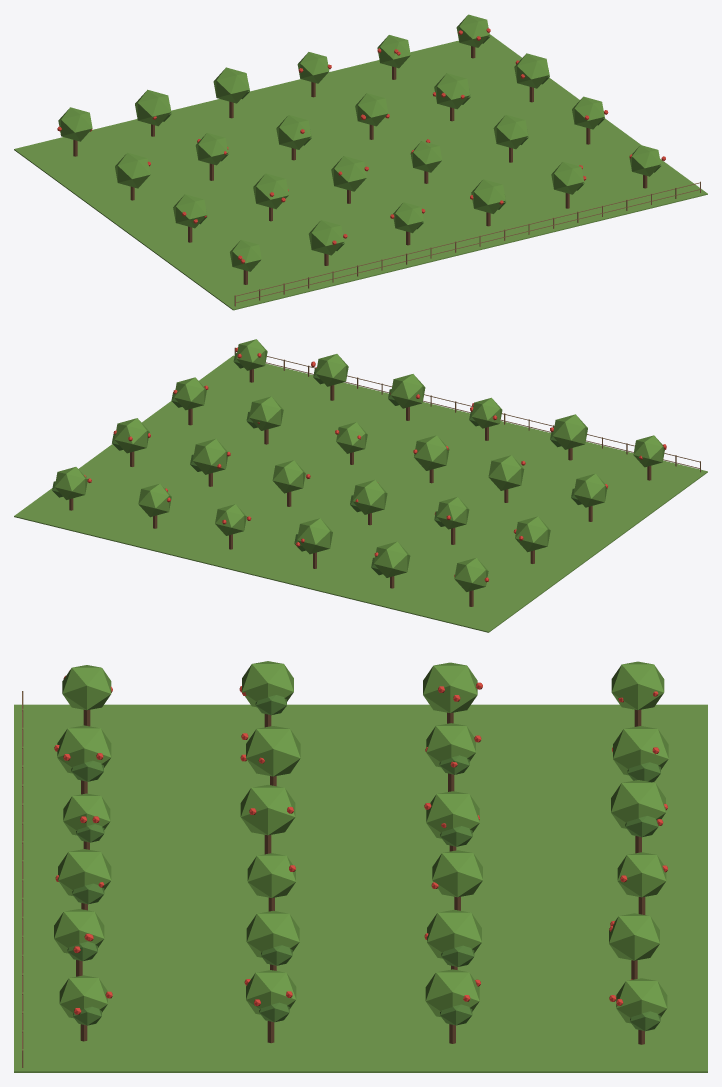
File: Kir_alan_meyve_1_Hafif.fbx
3 views of the same model, one above another, from view 1: azimuth 30°, elevation 25°; view 2: azimuth 150°, elevation 25°; view 3: azimuth 270°, elevation 25° (orthographic). The views are drawn at different scales.
Visible parts, largest first — view 1: Kir_alan_meyve_1_Hafif; view 2: Kir_alan_meyve_1_Hafif; view 3: Kir_alan_meyve_1_Hafif.
Boxes of the visible parts, x1,y1,x2,y2 form: Kir_alan_meyve_1_Hafif: (14,14,707,310); Kir_alan_meyve_1_Hafif: (14,339,707,632); Kir_alan_meyve_1_Hafif: (14,661,707,1072).
Bounding box in the file's own units: 50 × 4.73 × 40.
